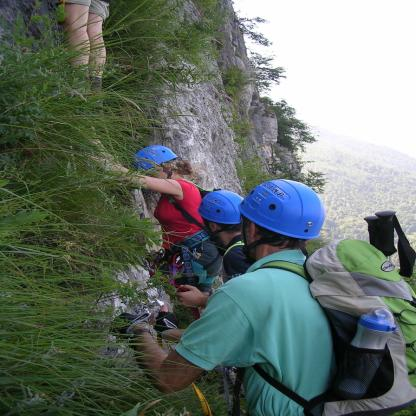Helmet: (238, 176, 327, 242), (196, 191, 243, 236), (135, 139, 185, 170)
